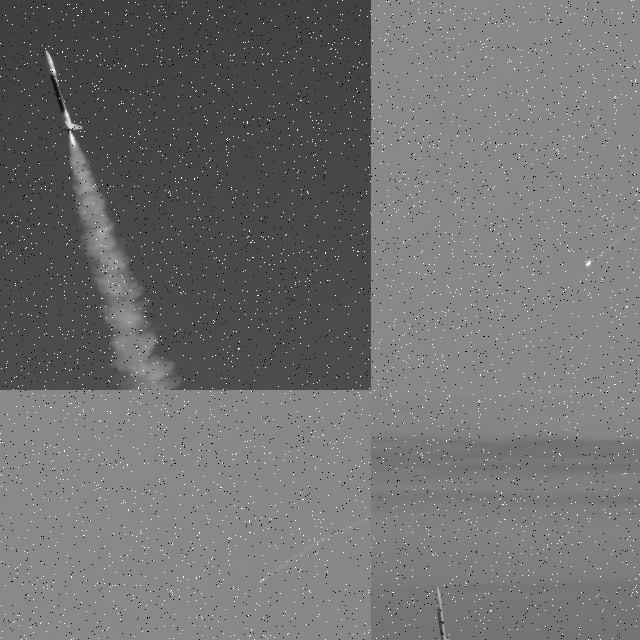Rocket: (44, 49, 83, 134), (431, 585, 458, 640), (585, 259, 592, 267), (260, 575, 265, 584)
